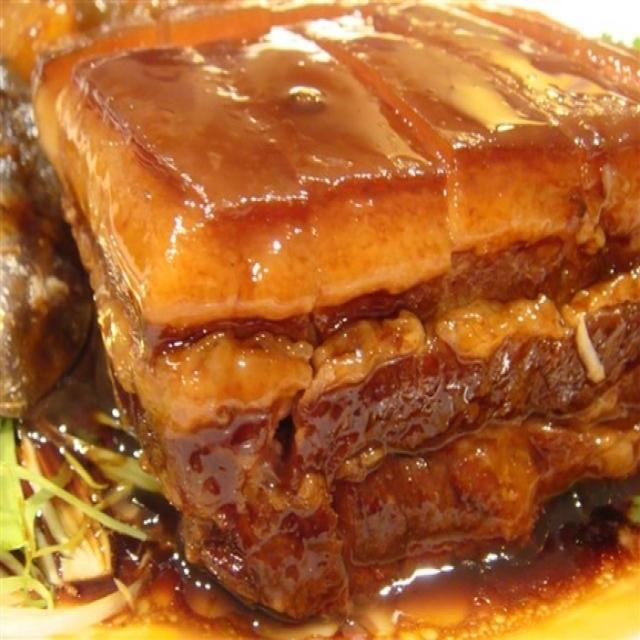牛肉菜式: (25, 4, 629, 621)
